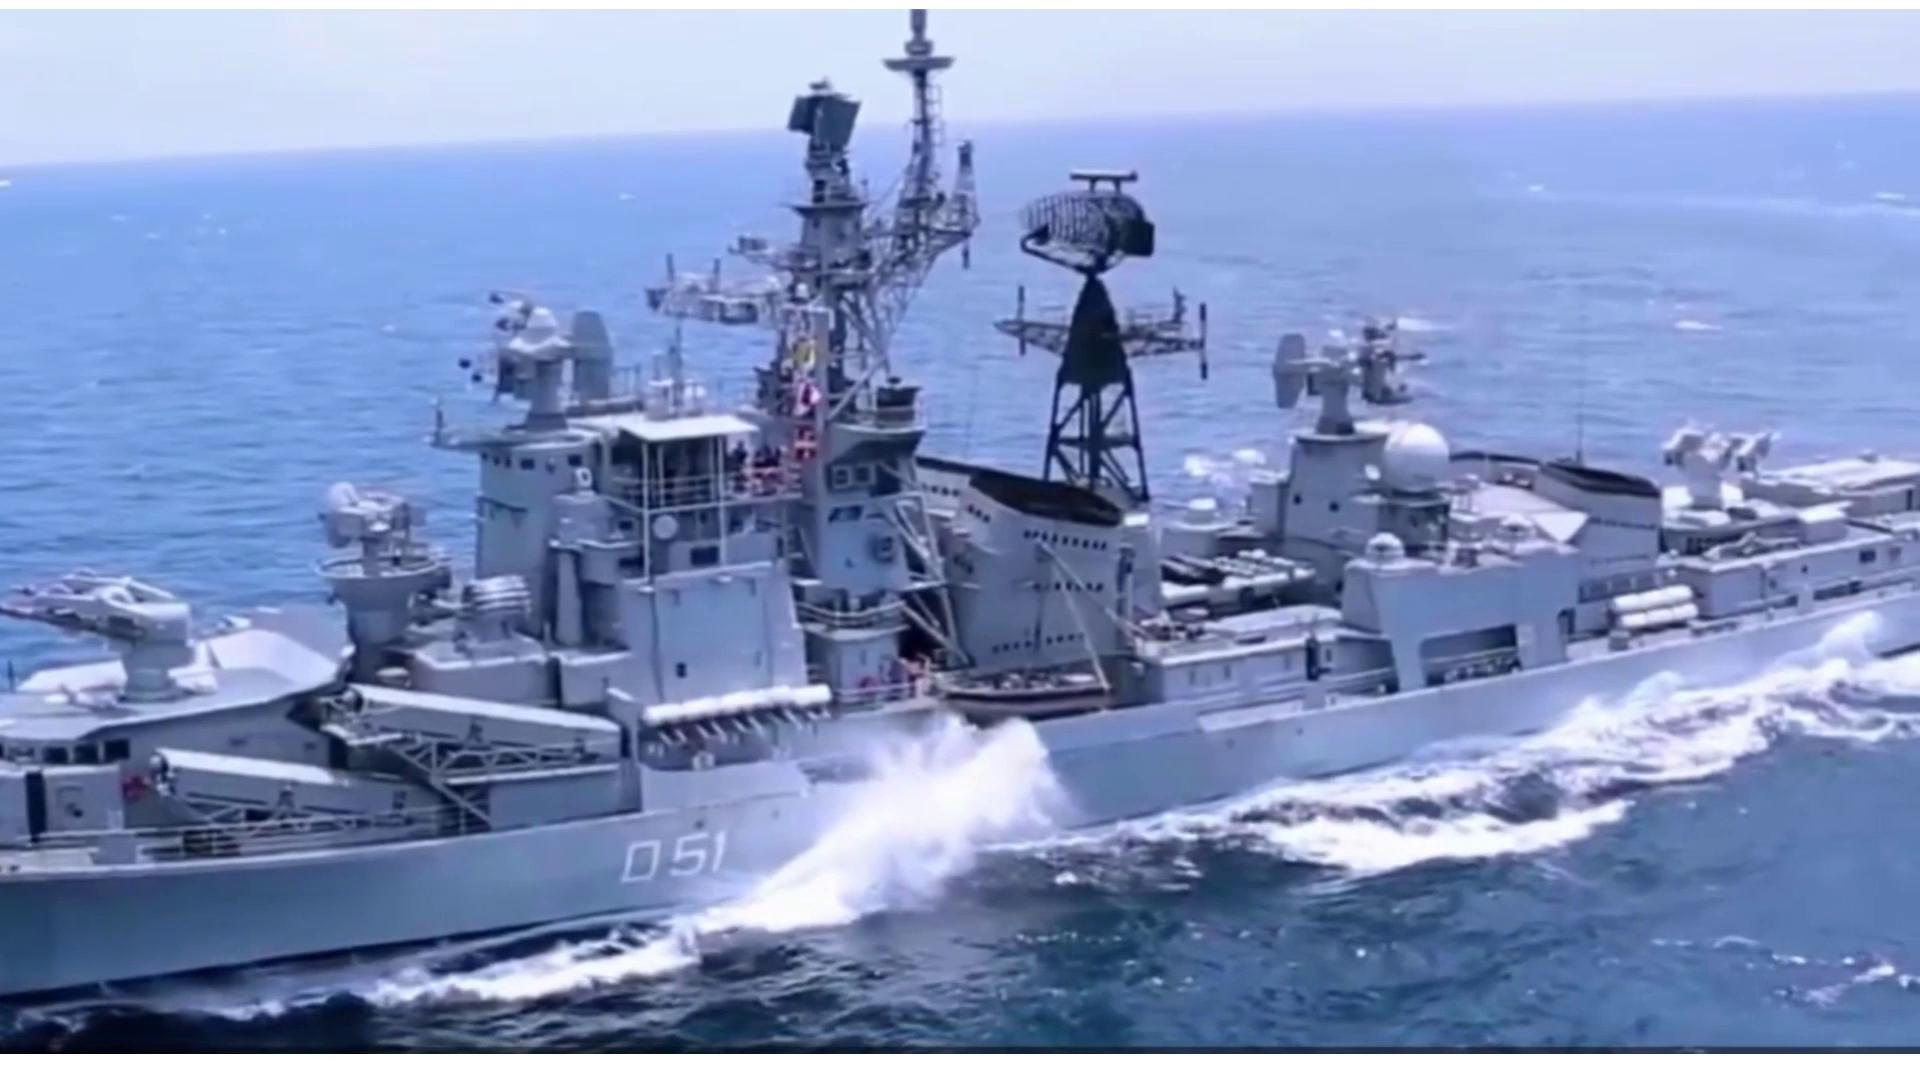OCR: (588, 813, 739, 899)
